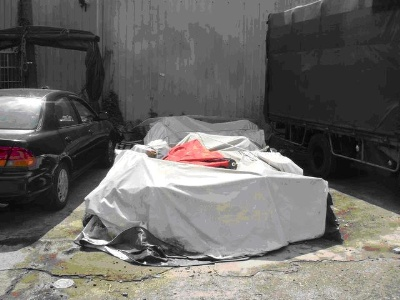plastic_bag: (82, 149, 331, 264), (143, 116, 269, 149), (162, 140, 238, 170)
